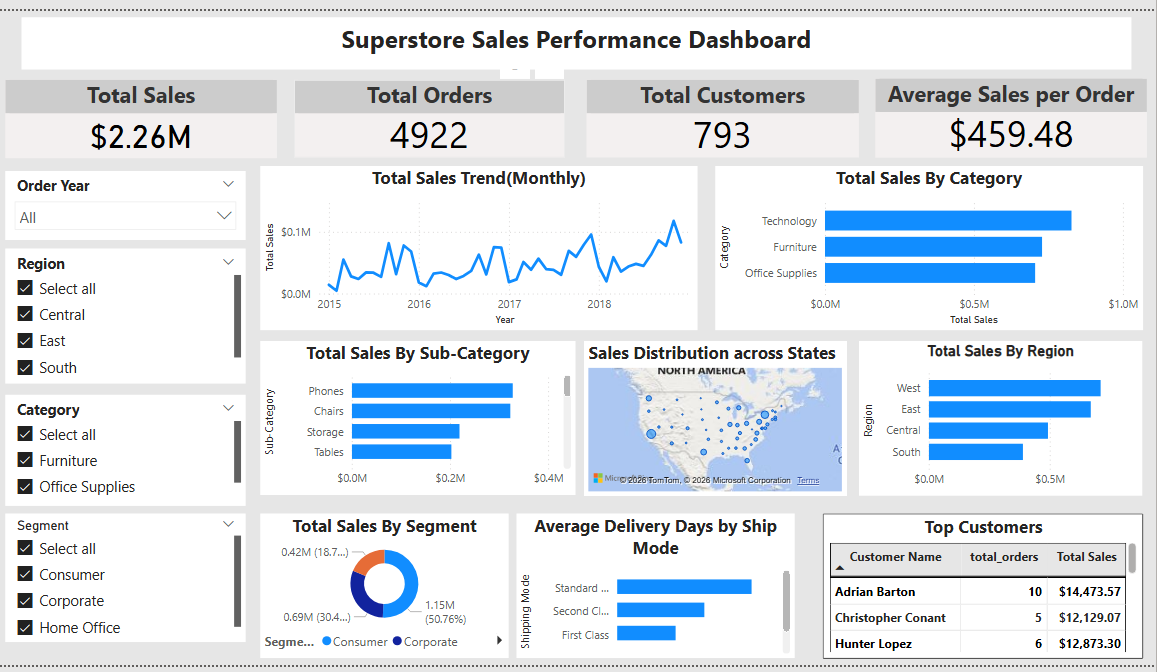

What the dashboard file says about the page in this screenshot:
{"tool":"powerbi","page":{"name":"Page 1","canvas":[1280,720],"ordinal":0},"visuals":[{"type":"card","title":"Total Sales","fields":{"Values":["train.total_sales"]},"box":[12.2,75.9,299,86.2],"z":0},{"type":"card","title":"Total Orders","fields":{"Values":["train.total_orders"]},"box":[330.9,75.9,298.6,85.8],"z":1000},{"type":"card","title":"Total Customers","fields":{"Values":["train.total_customers"]},"box":[653.1,75.9,299.8,85.8],"z":2000},{"type":"card","title":"Average Sales per Order","fields":{"Values":["train.averae_order_value"]},"box":[970.3,74.6,299,87.1],"z":3000},{"type":"donutChart","title":"Total Sales By Segment","fields":{"Y":["train.total_sales"],"Category":["train.Segment"]},"box":[292.8,553,273.9,159.5],"z":4000},{"type":"barChart","title":"Total Sales By Category","fields":{"Y":["train.total_sales"],"Category":["train.Category"]},"box":[794.4,171,471.2,180.5],"z":5000},{"type":"textbox","box":[30,6.7,1222.2,57.8],"z":6000},{"type":"barChart","title":"Total Sales By Sub-Category","fields":{"Category":["train.Sub-Category"],"Y":["train.total_sales"]},"box":[292.8,363.1,347.3,170],"z":7000},{"type":"map","title":"Sales Distribution across States","fields":{"Category":["train.State"],"Size":["train.Total Sales"]},"box":[649.2,363.2,289.3,170.3],"z":8000},{"type":"barChart","title":"Total Sales By Region","fields":{"Y":["train.total_sales"],"Category":["train.Region"]},"box":[952.9,363.2,312.2,170.4],"z":9000},{"type":"lineChart","title":"Total Sales Trend(Monthly)","fields":{"Y":["train.Total Sales"],"Category":["train.Order Date.Variation.Date Hierarchy.Year","train.Order Date.Variation.Date Hierarchy.Month"]},"box":[292.8,171,481.7,180.5],"z":10000},{"type":"slicer","fields":{"Values":["train.Order Date.Variation.Date Hierarchy.Year"]},"box":[11.9,176.4,264.6,76.3],"z":11000},{"type":"slicer","fields":{"Values":["train.Region"]},"box":[11.9,261.1,264.6,149],"z":12000},{"type":"slicer","fields":{"Values":["train.Category"]},"box":[11.9,422,264.6,122.8],"z":13000},{"type":"slicer","fields":{"Values":["train.Segment"]},"box":[11.8,553.9,264.6,141.4],"z":14000},{"type":"barChart","title":"Average Delivery Days by Ship Mode","fields":{"Category":["train.Ship Mode"],"Y":["train.Average delivery Time"]},"box":[576.1,553,306.4,159.5],"z":15000},{"type":"tableEx","title":"Top Customers","fields":{"Values":["train.Customer Name","train.total_orders","train.Total Sales"]},"box":[912.7,553.4,352.4,159.7],"z":16000}]}

Visuals, with their boxes on the page's 1280x720 design canvas (x1, y1, x2, y2). These are canvas units, not pixel positions in the 1157x672 screenshot, which may show the page scaled, cropped or inside an application window:
"Total Sales" card: box=[12, 76, 311, 162]
"Total Orders" card: box=[331, 76, 630, 162]
"Total Customers" card: box=[653, 76, 953, 162]
"Average Sales per Order" card: box=[970, 75, 1269, 162]
"Total Sales By Segment" donutChart: box=[293, 553, 567, 712]
"Total Sales By Category" barChart: box=[794, 171, 1266, 352]
textbox: box=[30, 7, 1252, 64]
"Total Sales By Sub-Category" barChart: box=[293, 363, 640, 533]
"Sales Distribution across States" map: box=[649, 363, 938, 534]
"Total Sales By Region" barChart: box=[953, 363, 1265, 534]
"Total Sales Trend(Monthly)" lineChart: box=[293, 171, 774, 352]
slicer - train.Order Date.Variation.Date Hierarchy.Year: box=[12, 176, 276, 253]
slicer - train.Region: box=[12, 261, 276, 410]
slicer - train.Category: box=[12, 422, 276, 545]
slicer - train.Segment: box=[12, 554, 276, 695]
"Average Delivery Days by Ship Mode" barChart: box=[576, 553, 882, 712]
"Top Customers" tableEx: box=[913, 553, 1265, 713]
